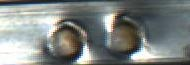joints: (40, 15, 90, 65), (100, 11, 147, 60)
